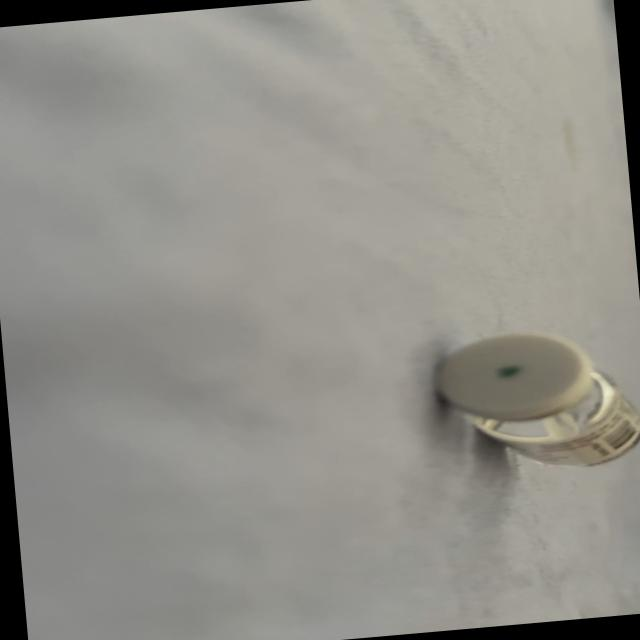fentanl_citrat: (433, 324, 640, 477)
